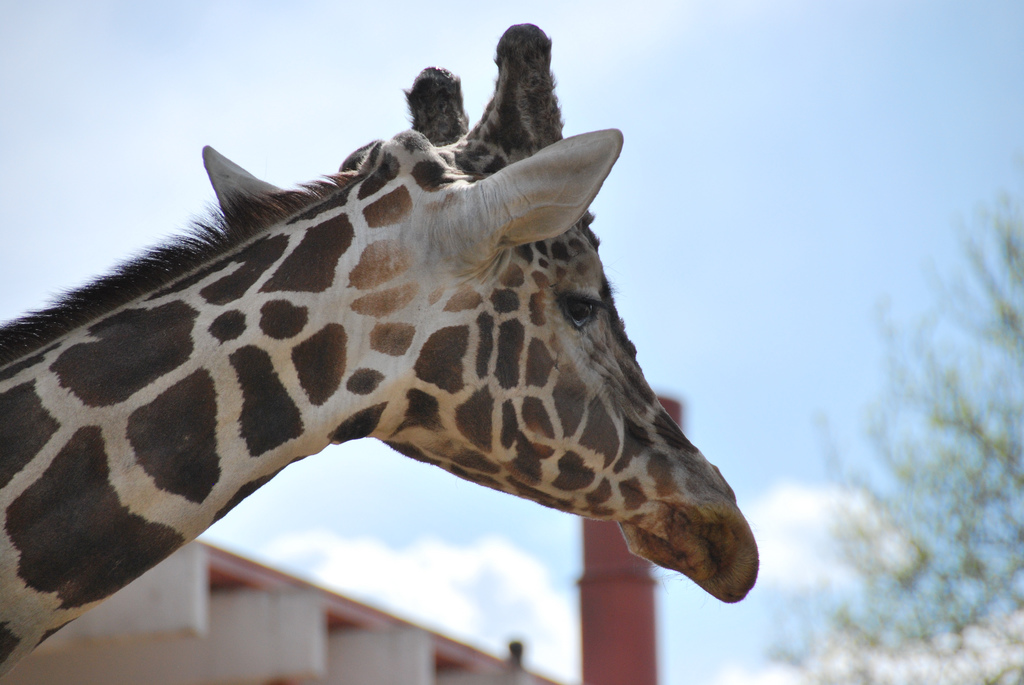giraffe: (46, 34, 788, 651)
